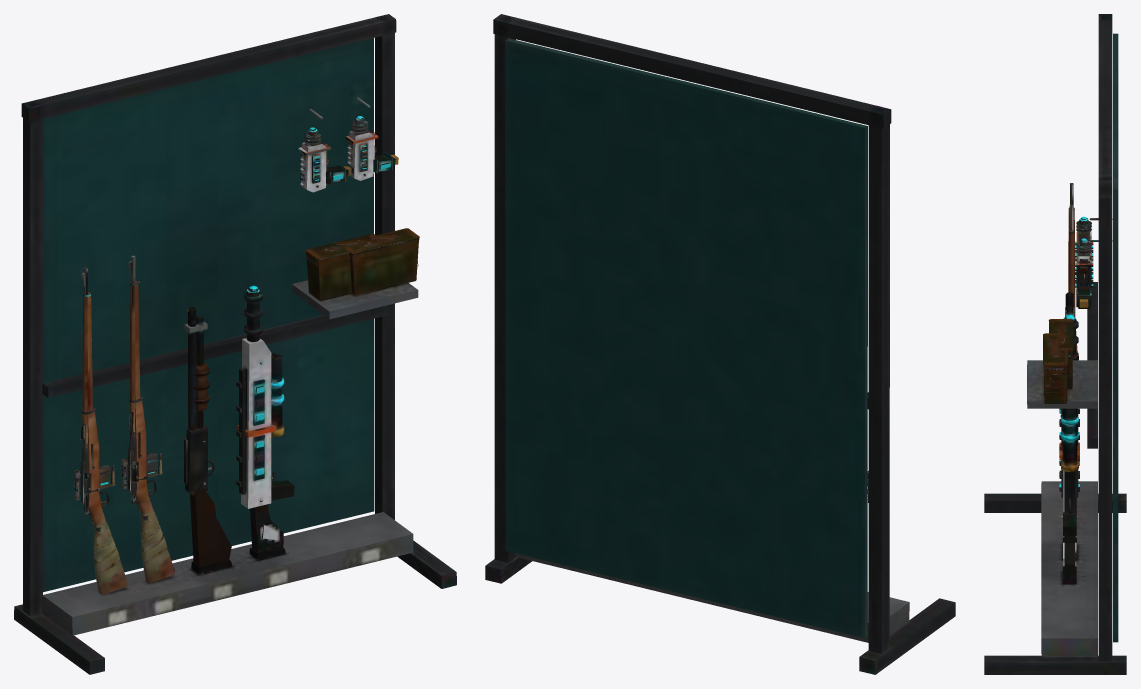
The model's file is weapon_rack.glb.
3 views of the same model, side by side, from view 1: azimuth 30°, elevation 25°; view 2: azimuth 150°, elevation 25°; view 3: azimuth 270°, elevation 25° (orthographic). The views are drawn at different scales.
Parts seen in each view (by area): view 1: weapon_rack; view 2: weapon_rack; view 3: weapon_rack.
Boxes of the visible parts, x1,y1,x2,y2 form: weapon_rack: [14, 14, 456, 674]; weapon_rack: [485, 14, 955, 674]; weapon_rack: [984, 14, 1126, 674].
Bounding box in the file's own units: 1.4 × 1.9 × 0.4983.
1 material, 1 textured.
